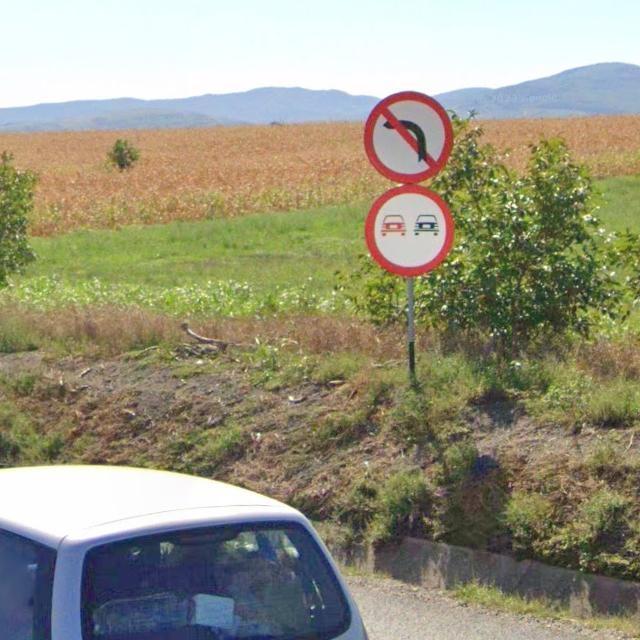forb_overtake: (365, 186, 456, 279)
